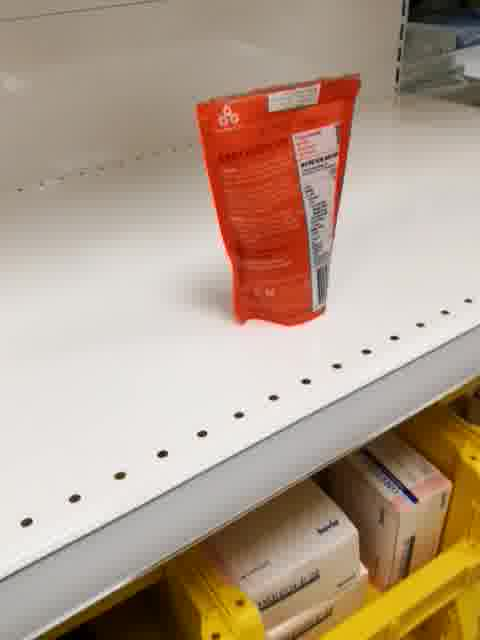whitechia: (195, 69, 364, 327)
